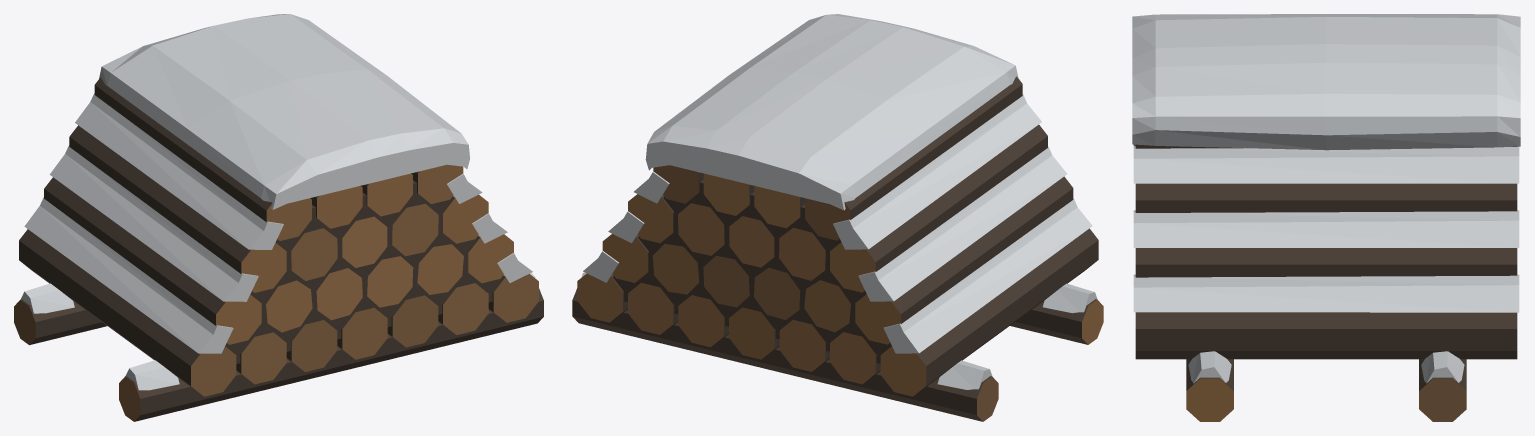
Rendered from snow-capped-log-pile-8719e7.glb.
The picture shows the model from 3 angles, left to right: view 1: azimuth 30°, elevation 25°; view 2: azimuth 150°, elevation 25°; view 3: azimuth 270°, elevation 25°; orthographic projection. The views are drawn at different scales.
Visible parts, largest first — view 1: log-pile; view 2: log-pile; view 3: log-pile.
Part boxes in pixels (x1,y1,x2,y2): log-pile: (14, 14, 543, 421); log-pile: (572, 14, 1103, 421); log-pile: (1132, 14, 1520, 421).
Size of the model in its own units: 2 by 1.17 by 1.5.
